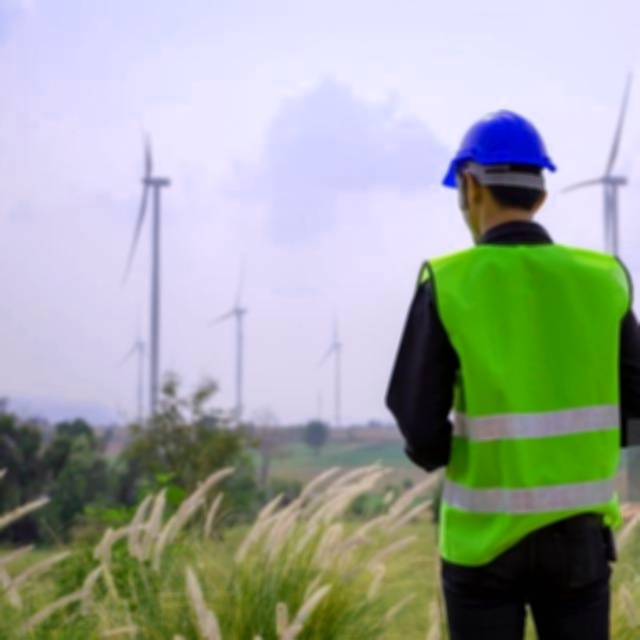Con_Casco: (441, 108, 555, 223)
Con_Chaleco: (422, 245, 635, 531)
